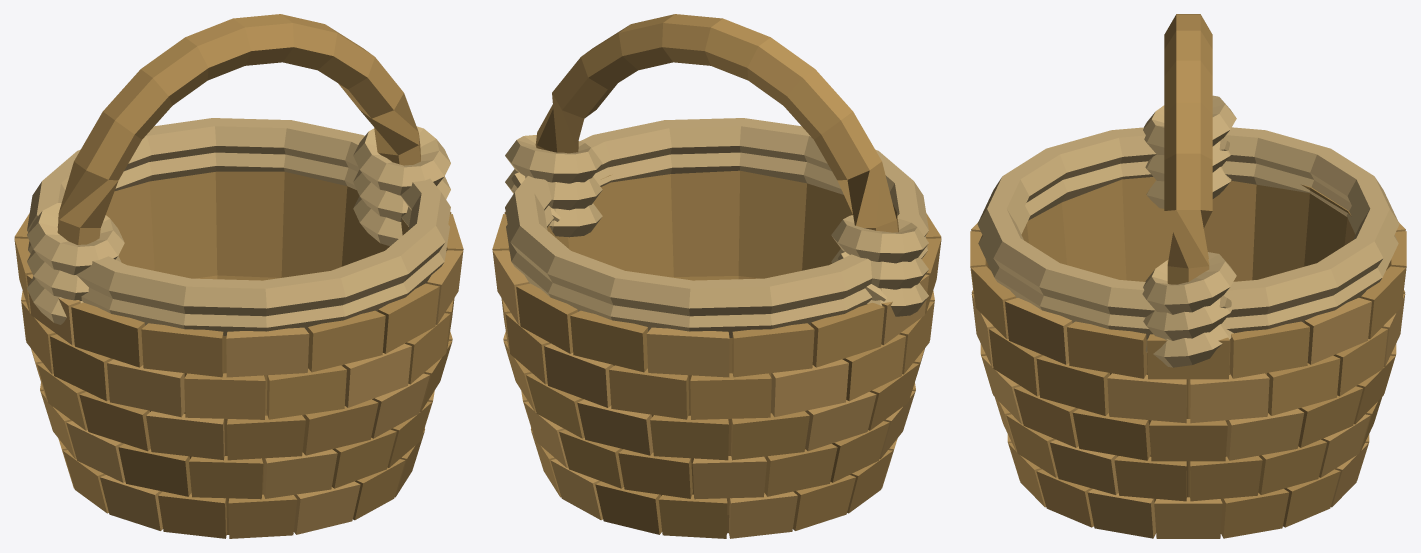
Rendered from basket_small_woven_01.glb.
The picture shows the model from 3 angles, left to right: view 1: azimuth 30°, elevation 25°; view 2: azimuth 150°, elevation 25°; view 3: azimuth 270°, elevation 25°; orthographic projection.
Parts seen in each view (by area): view 1: basket_small_woven_01__basket_wall, basket_small_woven_01__rim.001, basket_small_woven_01__handle, basket_small_woven_01__rim, basket_small_woven_01__broad_weave.075, basket_small_woven_01__broad_weave.074, basket_small_woven_01__broad_weave.058, basket_small_woven_01__broad_weave.076, basket_small_woven_01__broad_weave.059, basket_small_woven_01__handle_lashing2, basket_small_woven_01__handle_lashing2.001, basket_small_woven_01__broad_weave.057 (+33 smaller); view 2: basket_small_woven_01__rim.001, basket_small_woven_01__basket_wall, basket_small_woven_01__handle, basket_small_woven_01__rim, basket_small_woven_01__broad_weave.069, basket_small_woven_01__broad_weave.070, basket_small_woven_01__broad_weave.053, basket_small_woven_01__broad_weave.068, basket_small_woven_01__broad_weave.052, basket_small_woven_01__broad_weave.054, basket_small_woven_01__broad_weave.071, basket_small_woven_01__broad_weave.037 (+33 smaller); view 3: basket_small_woven_01__rim.001, basket_small_woven_01__basket_wall, basket_small_woven_01__handle, basket_small_woven_01__rim, basket_small_woven_01__broad_weave.065, basket_small_woven_01__broad_weave.079, basket_small_woven_01__broad_weave.048, basket_small_woven_01__broad_weave.063, basket_small_woven_01__handle_lashing2.001, basket_small_woven_01__broad_weave.032, basket_small_woven_01__broad_weave.049, basket_small_woven_01__broad_weave.062 (+35 smaller).
Boxes of the visible parts, bbox=[...] form: basket_small_woven_01__basket_wall: bbox=[106, 171, 408, 534]; basket_small_woven_01__rim.001: bbox=[27, 118, 450, 316]; basket_small_woven_01__handle: bbox=[57, 14, 420, 244]; basket_small_woven_01__rim: bbox=[28, 152, 449, 335]; basket_small_woven_01__broad_weave.075: bbox=[226, 327, 309, 377]; basket_small_woven_01__broad_weave.074: bbox=[141, 323, 223, 377]; basket_small_woven_01__broad_weave.058: bbox=[184, 373, 265, 419]; basket_small_woven_01__broad_weave.076: bbox=[307, 310, 385, 372]; basket_small_woven_01__broad_weave.059: bbox=[266, 365, 346, 419]; basket_small_woven_01__handle_lashing2: bbox=[27, 203, 124, 274]; basket_small_woven_01__handle_lashing2.001: bbox=[353, 126, 450, 195]; basket_small_woven_01__broad_weave.057: bbox=[107, 359, 185, 417]; basket_small_woven_01__rim.001: bbox=[505, 118, 928, 316]; basket_small_woven_01__basket_wall: bbox=[547, 170, 852, 533]; basket_small_woven_01__handle: bbox=[535, 14, 898, 232]; basket_small_woven_01__rim: bbox=[506, 152, 927, 337]; basket_small_woven_01__broad_weave.069: bbox=[646, 327, 729, 377]; basket_small_woven_01__broad_weave.070: bbox=[732, 323, 814, 377]; basket_small_woven_01__broad_weave.053: bbox=[690, 373, 771, 419]; basket_small_woven_01__broad_weave.068: bbox=[570, 310, 648, 372]; basket_small_woven_01__broad_weave.052: bbox=[609, 365, 689, 419]; basket_small_woven_01__broad_weave.054: bbox=[770, 359, 848, 417]; basket_small_woven_01__broad_weave.071: bbox=[811, 302, 884, 367]; basket_small_woven_01__broad_weave.037: bbox=[650, 415, 728, 460]; basket_small_woven_01__rim.001: bbox=[977, 127, 1399, 317]; basket_small_woven_01__basket_wall: bbox=[987, 177, 1388, 533]; basket_small_woven_01__handle: bbox=[1164, 14, 1212, 284]; basket_small_woven_01__rim: bbox=[978, 161, 1398, 339]; basket_small_woven_01__broad_weave.065: bbox=[1229, 321, 1309, 378]; basket_small_woven_01__broad_weave.079: bbox=[1067, 321, 1147, 378]; basket_small_woven_01__broad_weave.048: bbox=[1190, 373, 1269, 423]; basket_small_woven_01__broad_weave.063: bbox=[1107, 373, 1186, 423]; basket_small_woven_01__handle_lashing2.001: bbox=[1142, 252, 1236, 314]; basket_small_woven_01__broad_weave.032: bbox=[1149, 419, 1227, 461]; basket_small_woven_01__broad_weave.049: bbox=[1267, 355, 1340, 415]; basket_small_woven_01__broad_weave.062: bbox=[1036, 355, 1109, 415].
Bounding box in the file's own units: 0.504 × 0.5375 × 0.4693.
